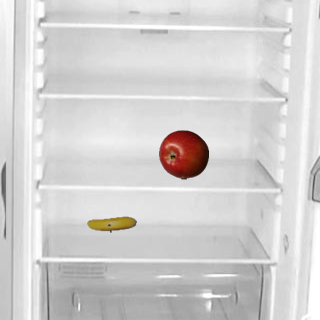Apple Braeburn: (158, 129, 208, 179)
Banana: (86, 199, 136, 249)
